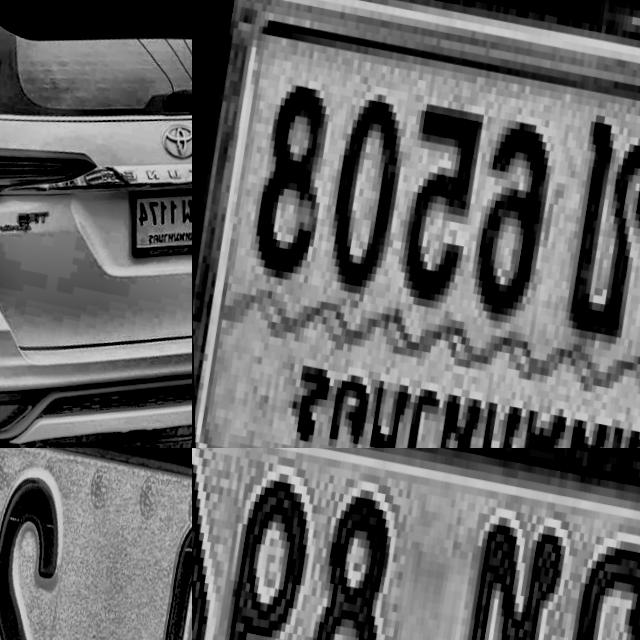license-plate: (192, 0, 640, 448), (192, 448, 640, 640), (0, 448, 192, 640), (116, 164, 192, 270)
